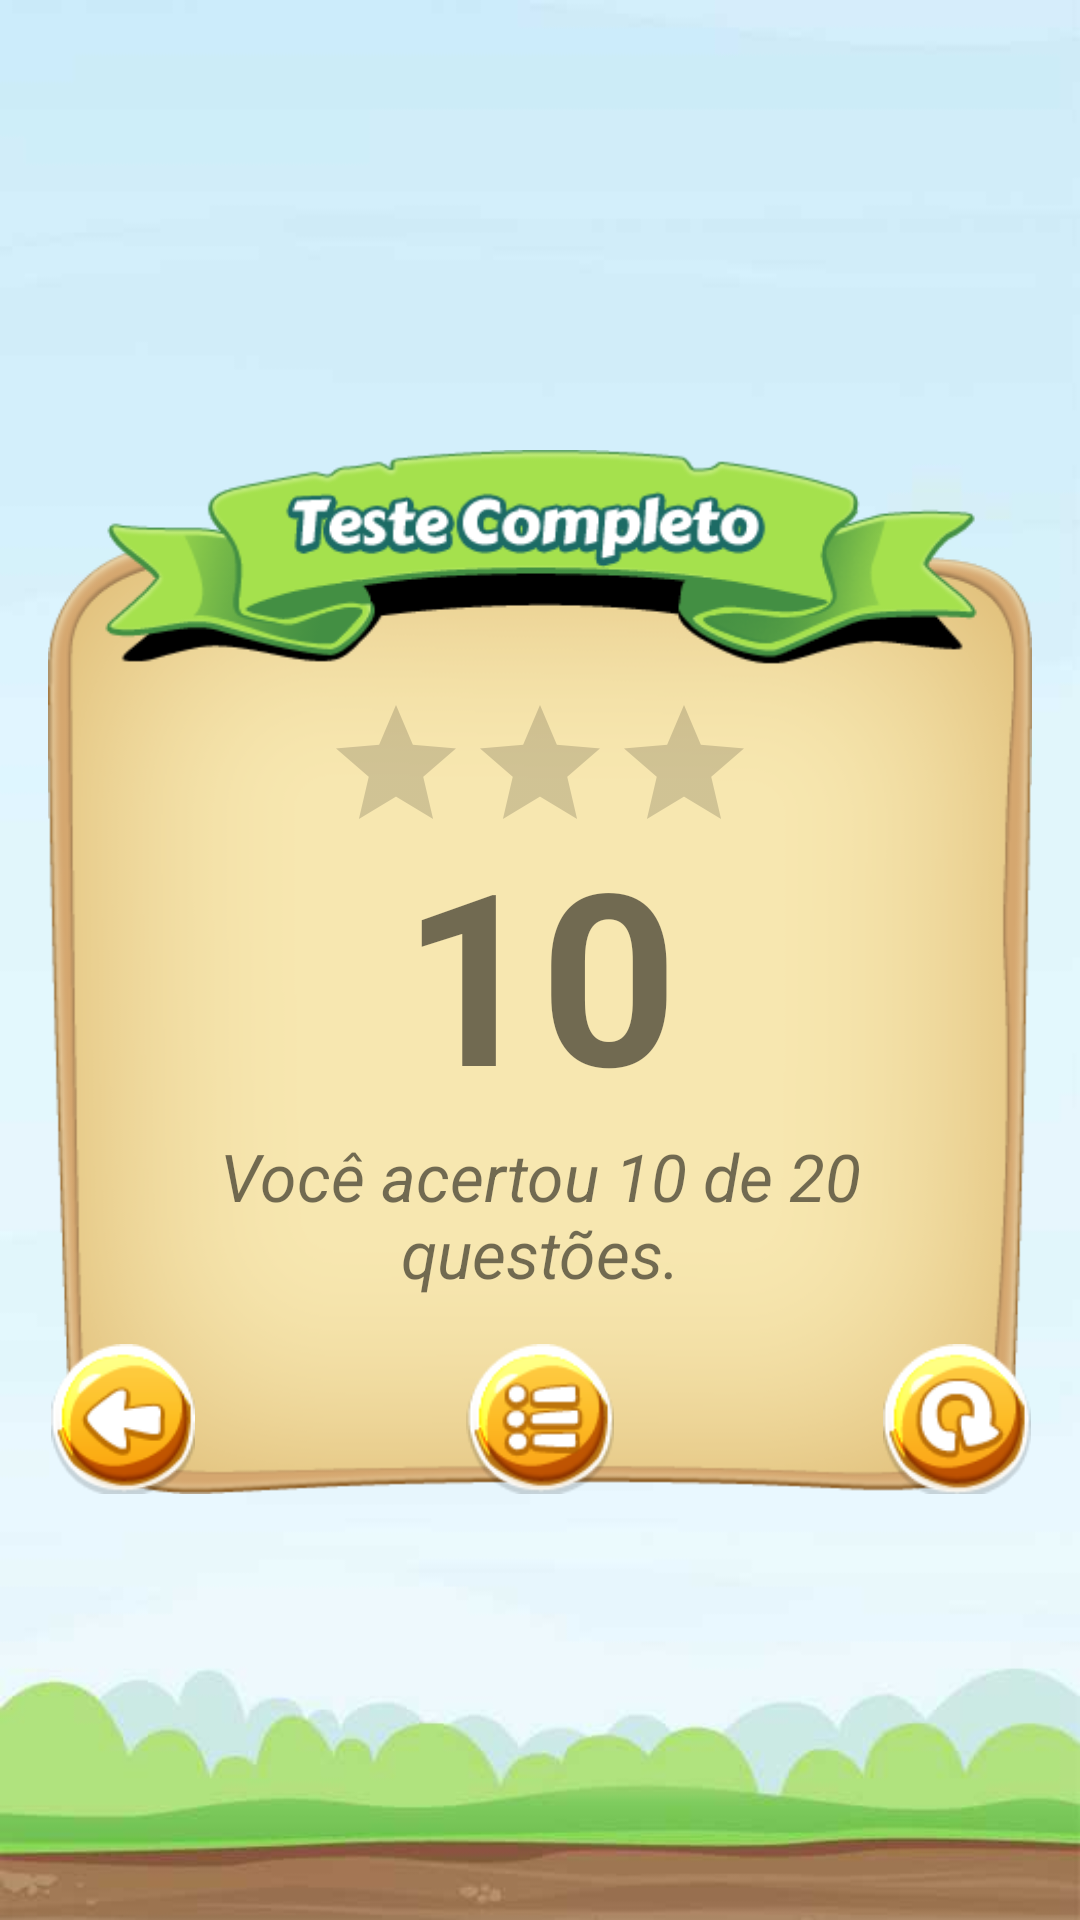

Screen size 1080*1920. Icon name, then its center in pixels as [x,y]:
back: [123,1419]
menu: [540,1419]
repeat: [957,1419]
